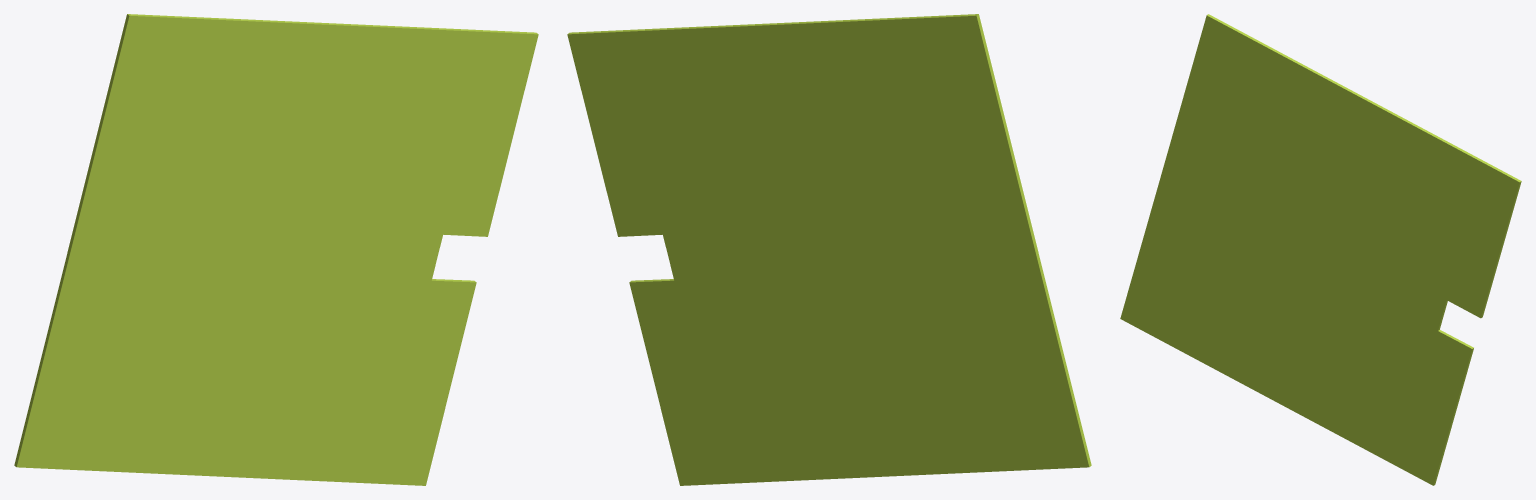
3 views of the same model, side by side, from view 1: azimuth 30°, elevation 25°; view 2: azimuth 150°, elevation 25°; view 3: azimuth 330°, elevation 25° (orthographic). The views are drawn at different scales.
Parts seen in each view (by area): view 1: osm-way27917482-F-1; view 2: osm-way27917482-F-1; view 3: osm-way27917482-F-1.
Boxes of the visible parts, x1,y1,x2,y2 form: osm-way27917482-F-1: (14, 14, 538, 485); osm-way27917482-F-1: (567, 14, 1091, 485); osm-way27917482-F-1: (1120, 14, 1521, 485).
Size of the model in its own units: 18.62 by 18.49 by 0.15.
